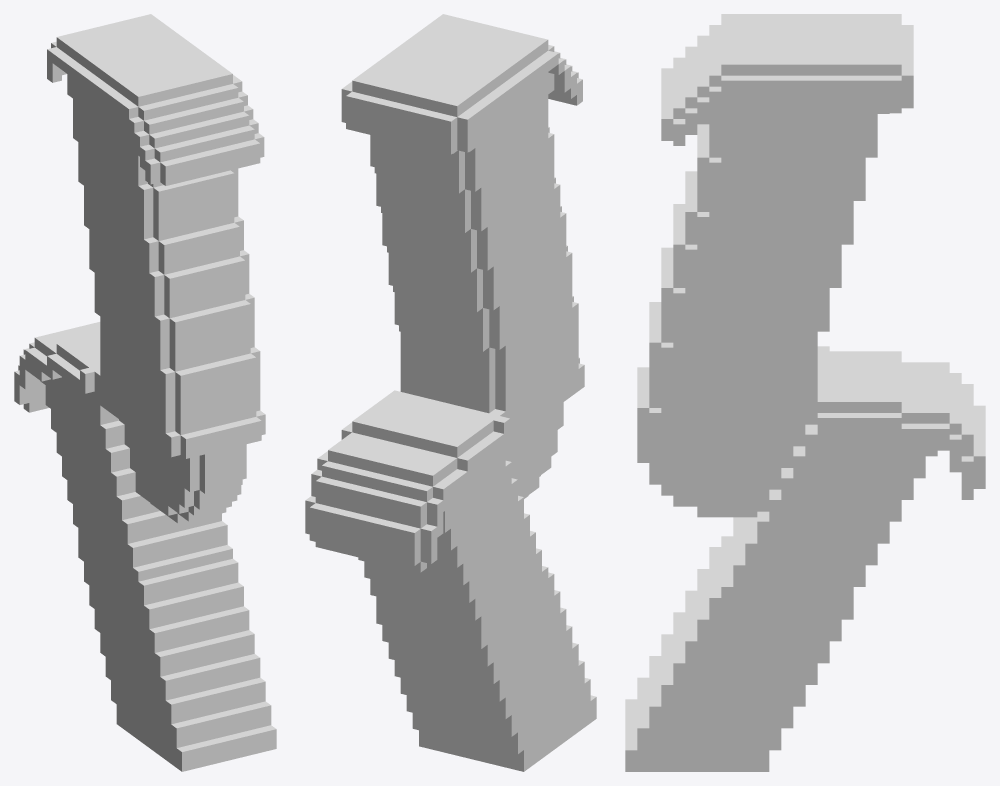
File: SteelAsc - TestMech-1-Left Leg.obj
3 views of the same model, side by side, from view 1: azimuth 30°, elevation 25°; view 2: azimuth 150°, elevation 25°; view 3: azimuth 270°, elevation 25° (orthographic). The views are drawn at different scales.
Visible parts, largest first — view 1: Left Leg; view 2: Left Leg; view 3: Left Leg.
Boxes of the visible parts, bbox=[...] form: Left Leg: bbox=[14, 14, 276, 771]; Left Leg: bbox=[305, 14, 596, 771]; Left Leg: bbox=[625, 14, 985, 771].
Bounding box in the file's own units: 1.2 × 6.5 × 3.
Materials: 1 (1 with a texture image).
